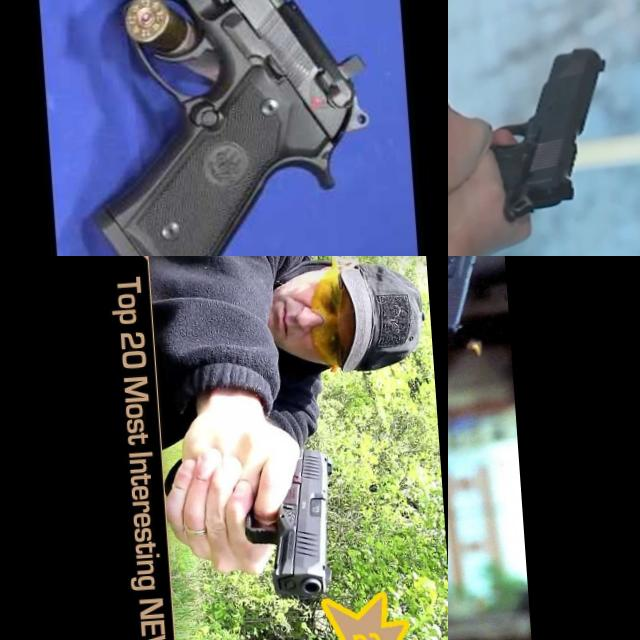handgun: (51, 0, 385, 256), (480, 44, 618, 226), (236, 442, 344, 604), (448, 256, 500, 348)
